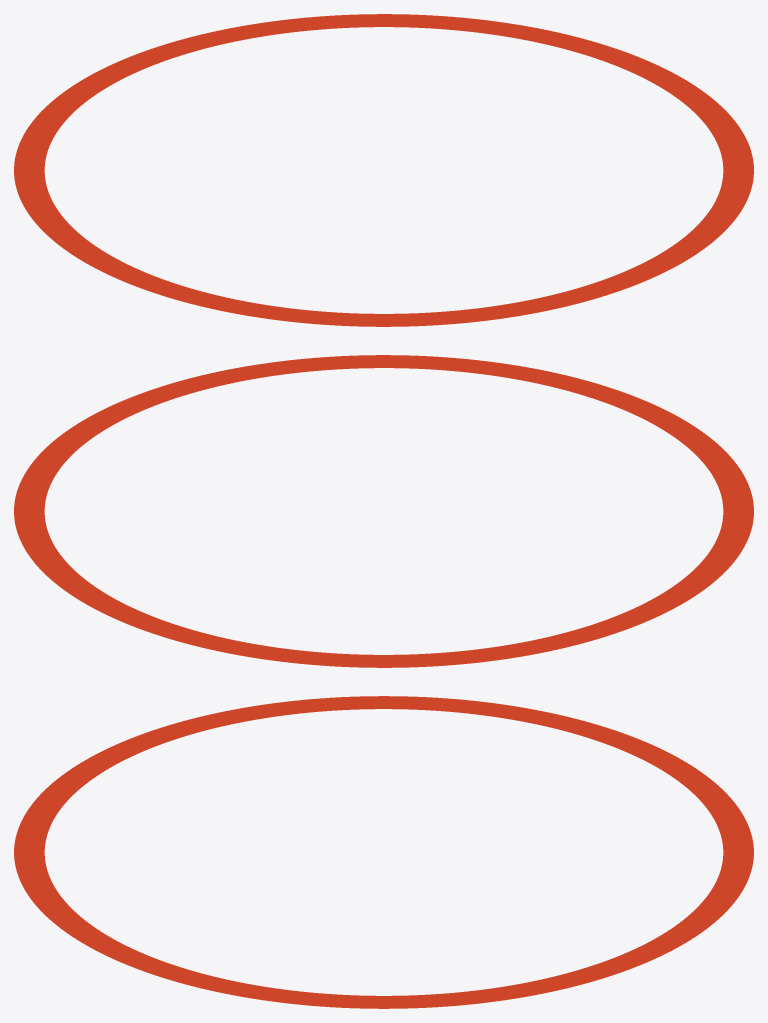
Rendered from circle_range.fbx.
3 renders of one model, top to bottom at view 1: azimuth 30°, elevation 25°; view 2: azimuth 150°, elevation 25°; view 3: azimuth 270°, elevation 25°, orthographic.
Visible parts, largest first — view 1: Circle; view 2: Circle; view 3: Circle.
Part boxes in pixels (left/top/right/bottom): Circle: left=14, top=14, right=753, bottom=326; Circle: left=14, top=355, right=753, bottom=667; Circle: left=14, top=696, right=753, bottom=1008.
Bounding box in the file's own units: 199 × 3.86e-05 × 199.
